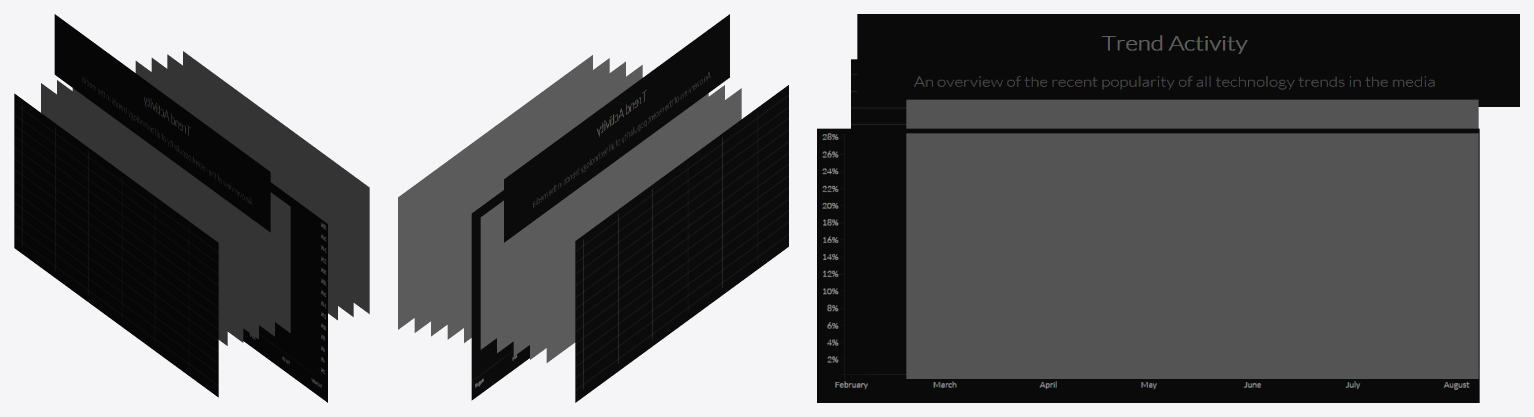
File: GlowGraph.fbx
The picture shows the model from 3 angles, left to right: view 1: azimuth 30°, elevation 25°; view 2: azimuth 150°, elevation 25°; view 3: azimuth 270°, elevation 25°; orthographic projection. The views are drawn at different scales.
Parts seen in each view (by area): view 1: GraphBase_geom, Graphs_geom; view 2: GraphBase_geom, Graphs_geom; view 3: Graphs_geom, GraphBase_geom.
Part boxes in pixels (x1,y1,x2,y2): GraphBase_geom: [14, 14, 327, 402]; Graphs_geom: [41, 51, 369, 345]; GraphBase_geom: [471, 14, 788, 402]; Graphs_geom: [398, 55, 741, 362]; Graphs_geom: [906, 99, 1478, 378]; GraphBase_geom: [817, 14, 1519, 402].
Bounding box in the file's own units: 26.8 × 35.15 × 62.9.
Materials: 2 (1 with a texture image).
